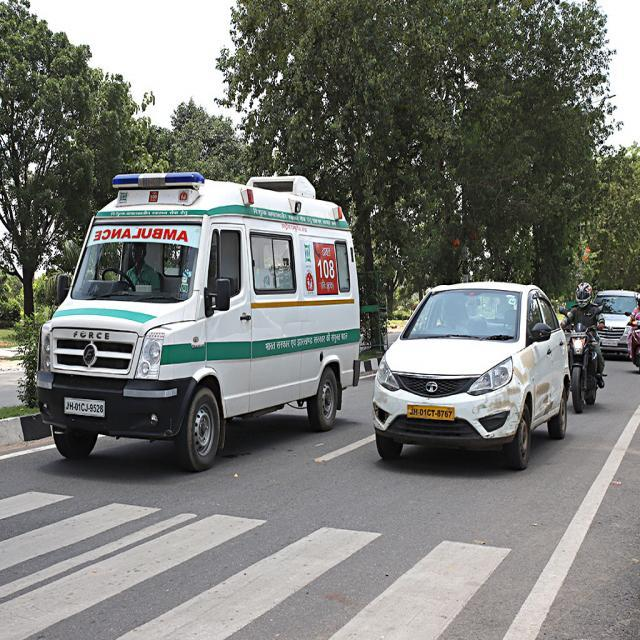emergency-vehicle: (24, 149, 364, 475)
